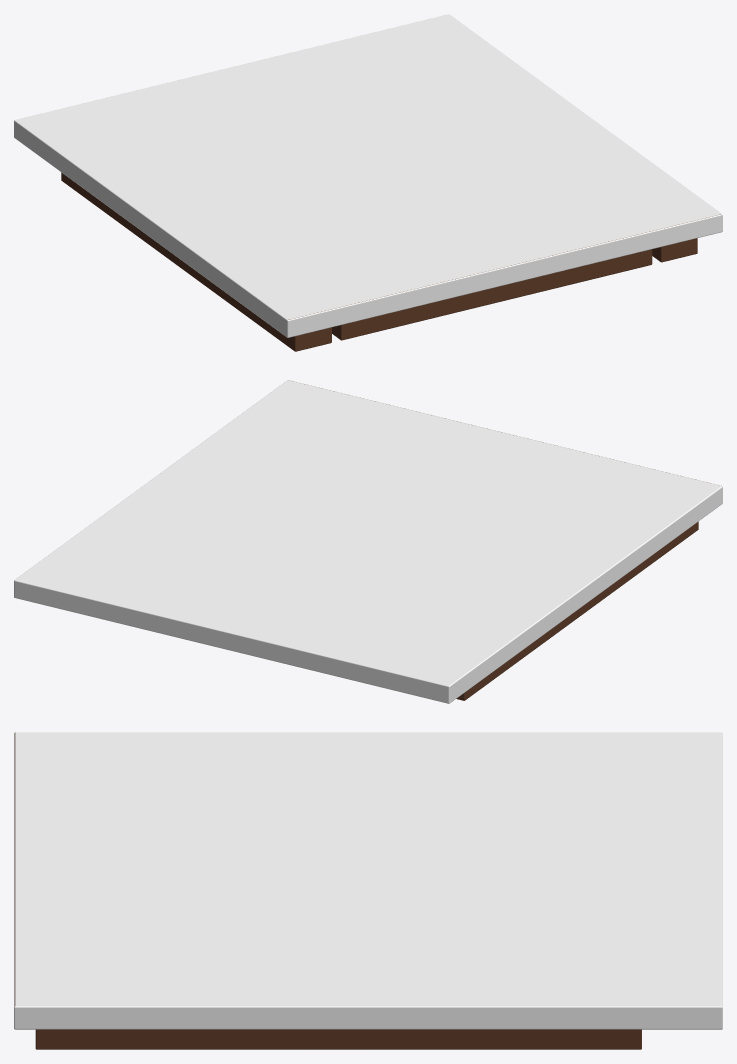
3 views of the same model, one above another, from view 1: azimuth 30°, elevation 25°; view 2: azimuth 150°, elevation 25°; view 3: azimuth 270°, elevation 25° (orthographic). The views are drawn at different scales.
Visible parts, largest first — view 1: CH18_UpImpluvium, MainModel:0; view 2: CH18_UpImpluvium, MainModel:0; view 3: CH18_UpImpluvium, MainModel:0.
Boxes of the visible parts, x1=… form: CH18_UpImpluvium: x1=14, y1=14, x2=722, y2=337; MainModel:0: x1=61, y1=172, x2=720, y2=351; CH18_UpImpluvium: x1=14, y1=380, x2=722, y2=703; MainModel:0: x1=292, y1=381, x2=721, y2=700; CH18_UpImpluvium: x1=14, y1=732, x2=722, y2=1029; MainModel:0: x1=15, y1=732, x2=641, y2=1049.
Size of the model in its own units: 1.66 by 0.1525 by 1.81.
